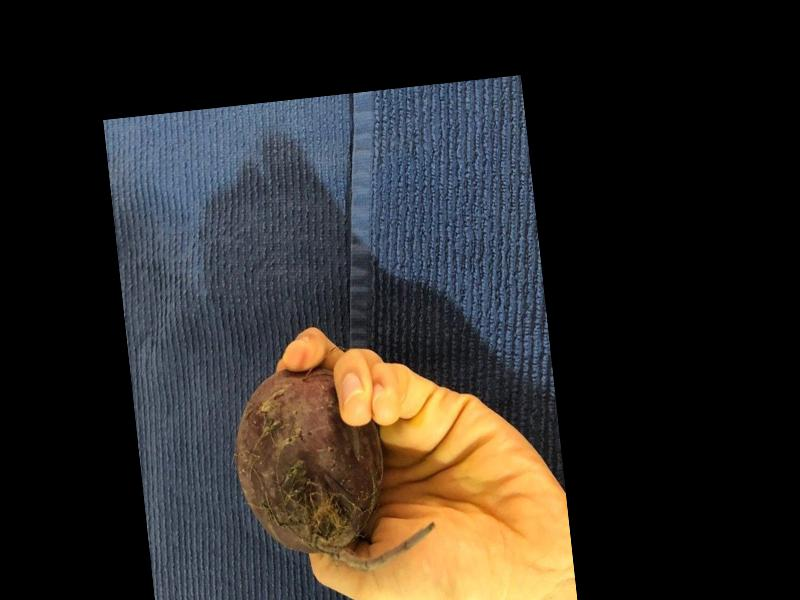Beet: (228, 355, 441, 580)
